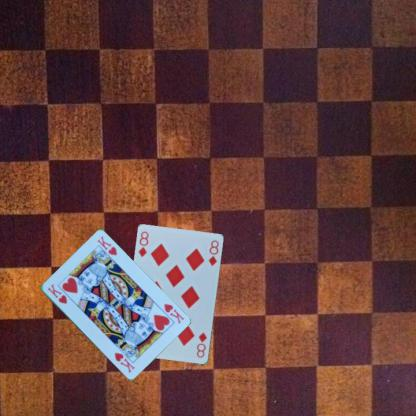8d: (194, 330, 208, 359), (136, 229, 150, 258)
Kh: (161, 301, 186, 325), (45, 281, 68, 305)
